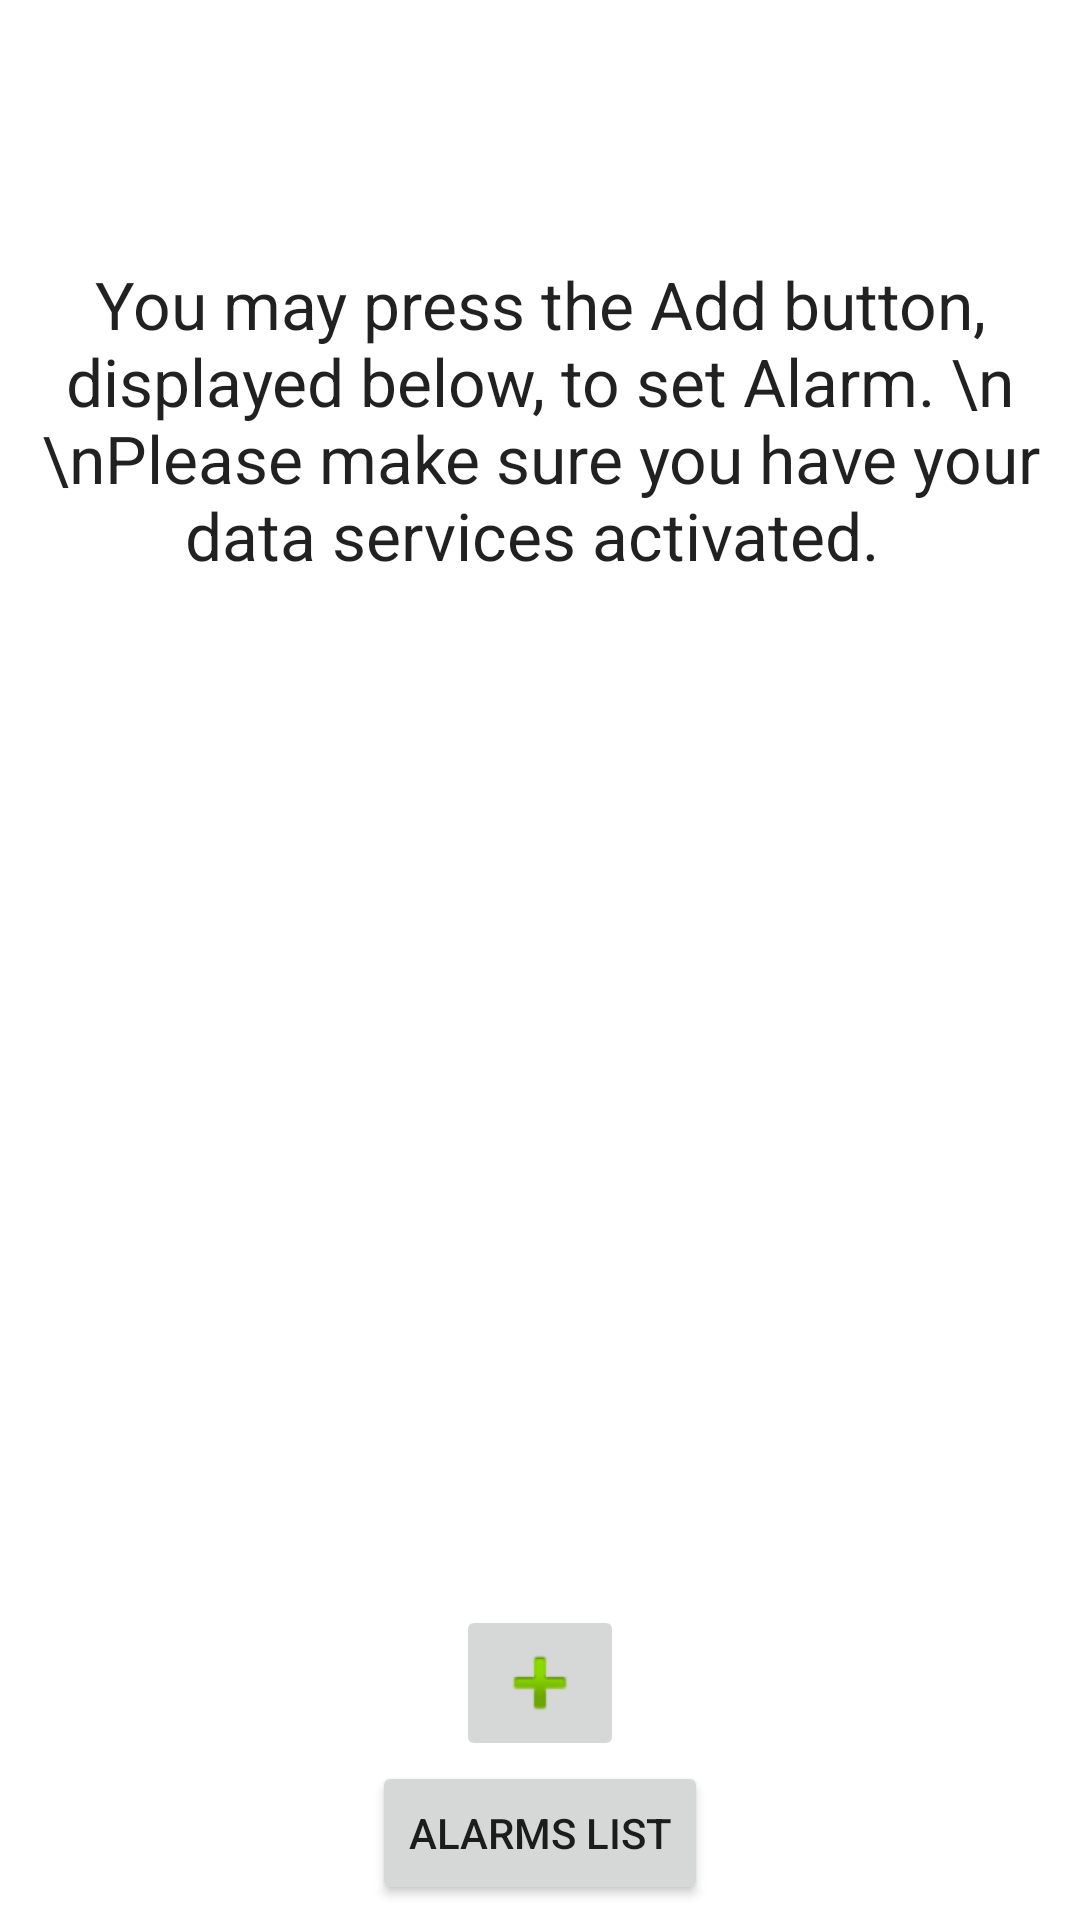

Where to tap for icons on this 1080w x 1920h app screen, as (x,y):
add: (540,1683)
